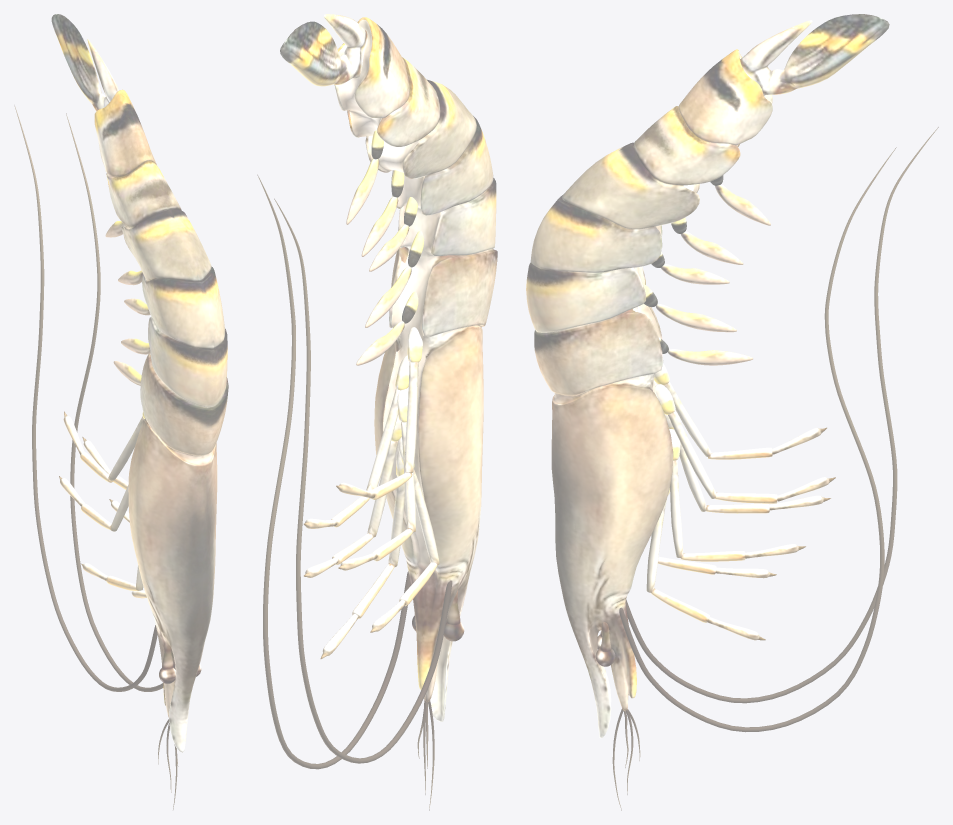
The model's file is 10048_Shrimp_v1.gltf.
The picture shows the model from 3 angles, left to right: view 1: azimuth 30°, elevation 25°; view 2: azimuth 150°, elevation 25°; view 3: azimuth 270°, elevation 25°; orthographic projection. The views are drawn at different scales.
Parts seen in each view (by area): view 1: 10048_Shrimp_v1; view 2: 10048_Shrimp_v1; view 3: 10048_Shrimp_v1.
Part boxes in pixels (x1=…): 10048_Shrimp_v1: x1=14, y1=14, x2=228, y2=809; 10048_Shrimp_v1: x1=257, y1=14, x2=497, y2=810; 10048_Shrimp_v1: x1=526, y1=14, x2=938, y2=810.
Bounding box in the file's own units: 2.73 × 23.86 × 11.2.
1 material, 1 textured.
